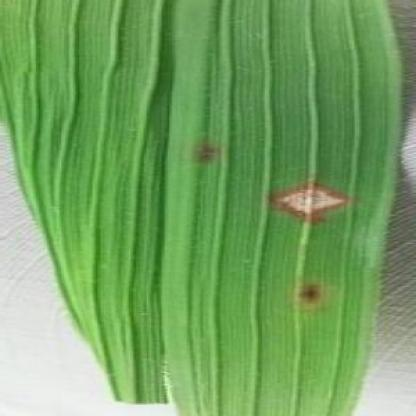Rice blast: (265, 166, 366, 220)
